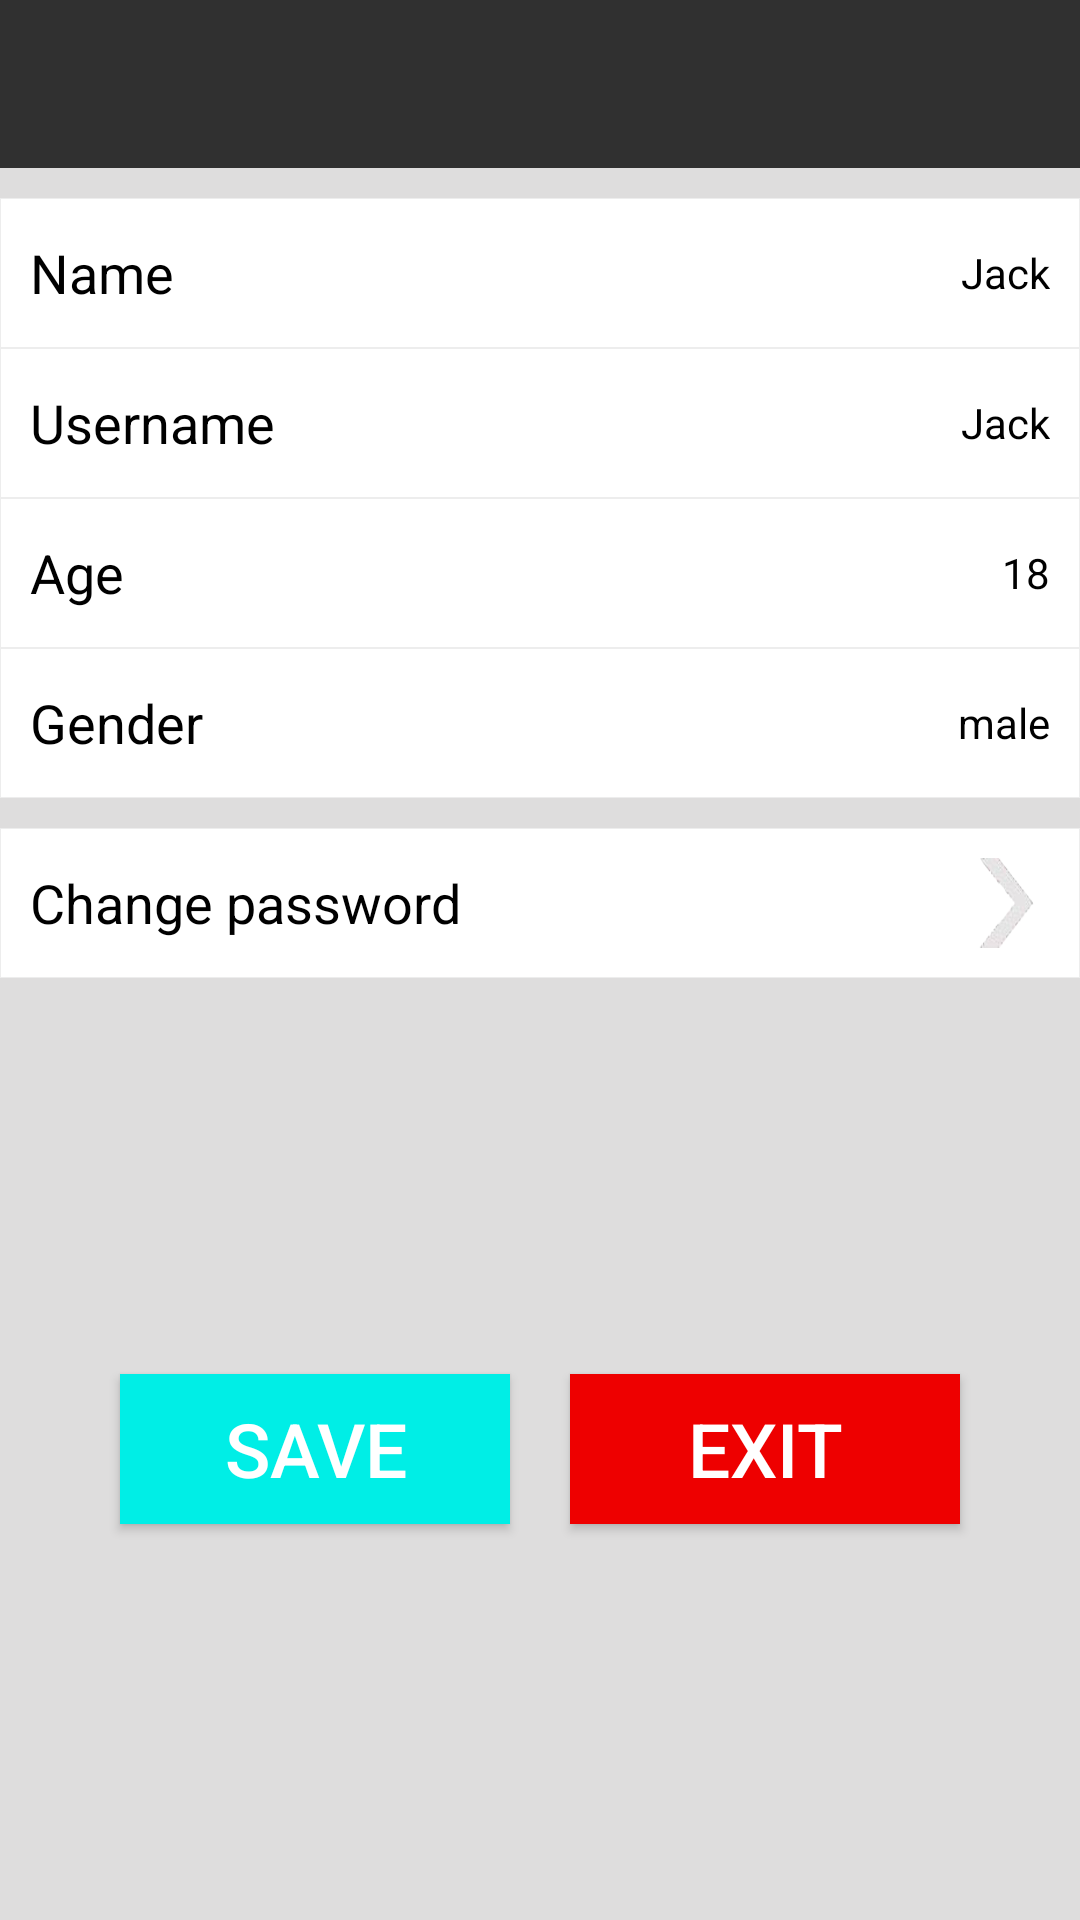

Icon bounding boxes for this 1080 x 1920 phone screenshot, format (x1, y1, x2, y2):
arrow: (980, 858, 1033, 948)
